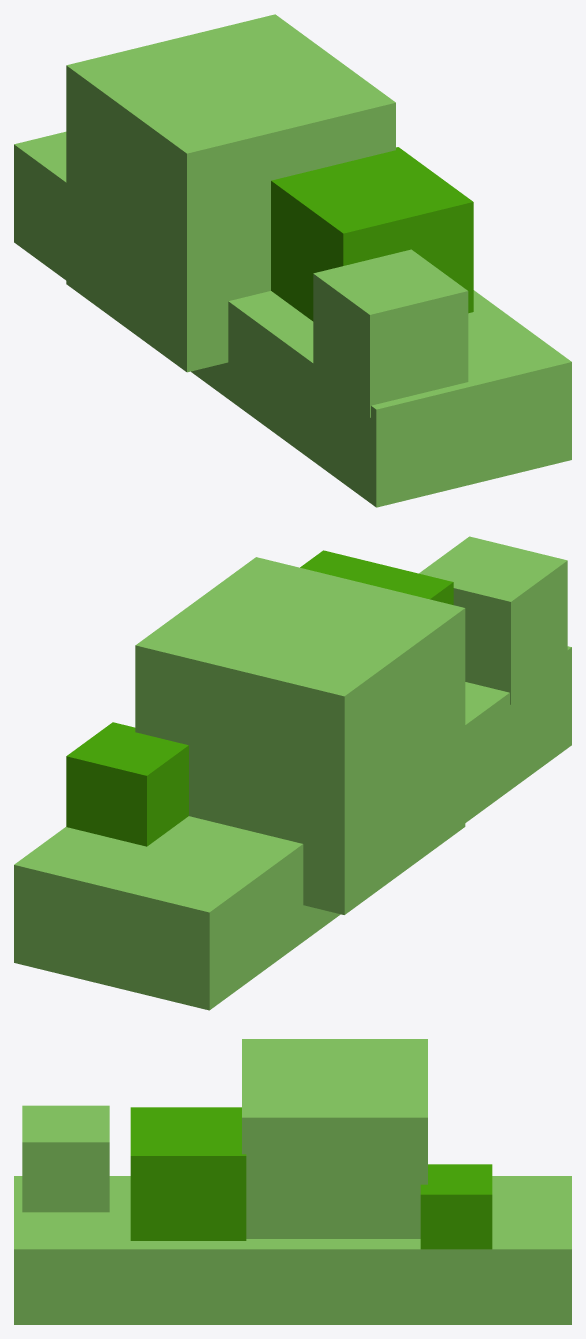
Rendered from bush1.fbx.
3 renders of one model, top to bottom at view 1: azimuth 30°, elevation 25°; view 2: azimuth 150°, elevation 25°; view 3: azimuth 270°, elevation 25°, orthographic. The views are drawn at different scales.
Parts seen in each view (by area): view 1: bush1; view 2: bush1; view 3: bush1.
Part boxes in pixels (<box>): bush1: <box>14,14,571,507</box>; bush1: <box>14,536,571,1010</box>; bush1: <box>14,1039,571,1324</box>.
Bounding box in the file's own units: 30.59 × 31.55 × 81.07.
